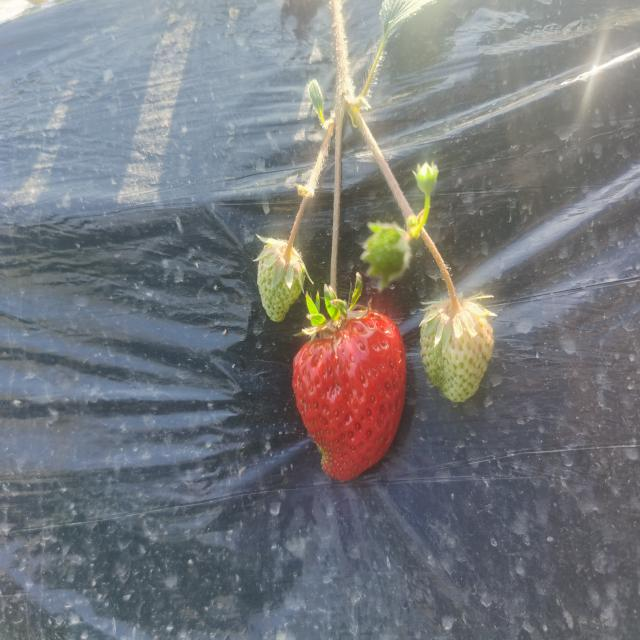stem: (330, 225, 339, 320)
strawberry: (292, 310, 406, 482)
